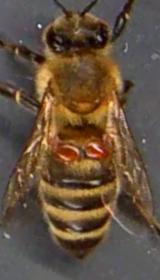varroa_mite: (79, 138, 115, 168), (50, 141, 82, 169)
